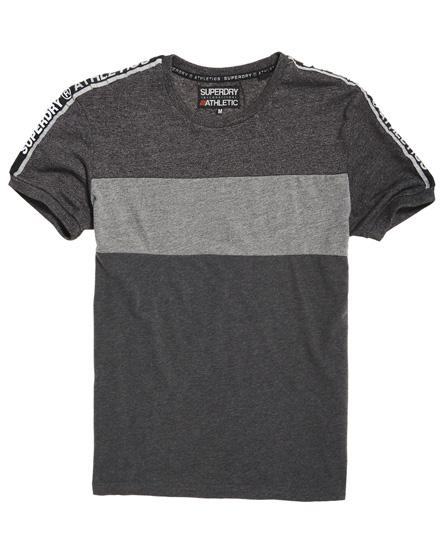teeshirt: (8, 8, 437, 535)
